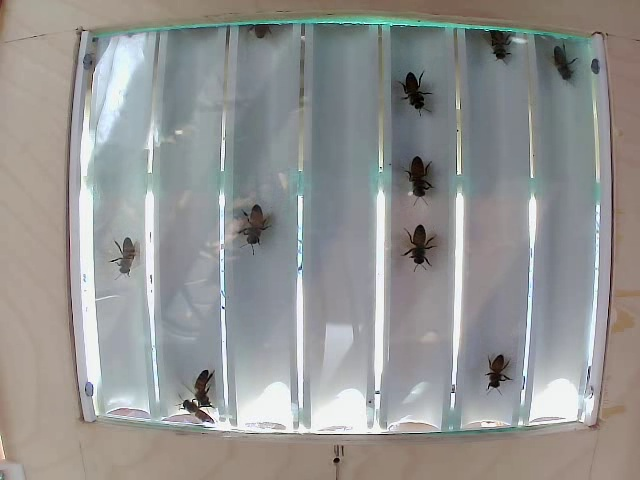bee: (240, 202, 276, 255), (392, 58, 429, 108), (494, 20, 521, 78), (105, 237, 147, 274), (402, 159, 432, 206), (402, 226, 434, 270)
